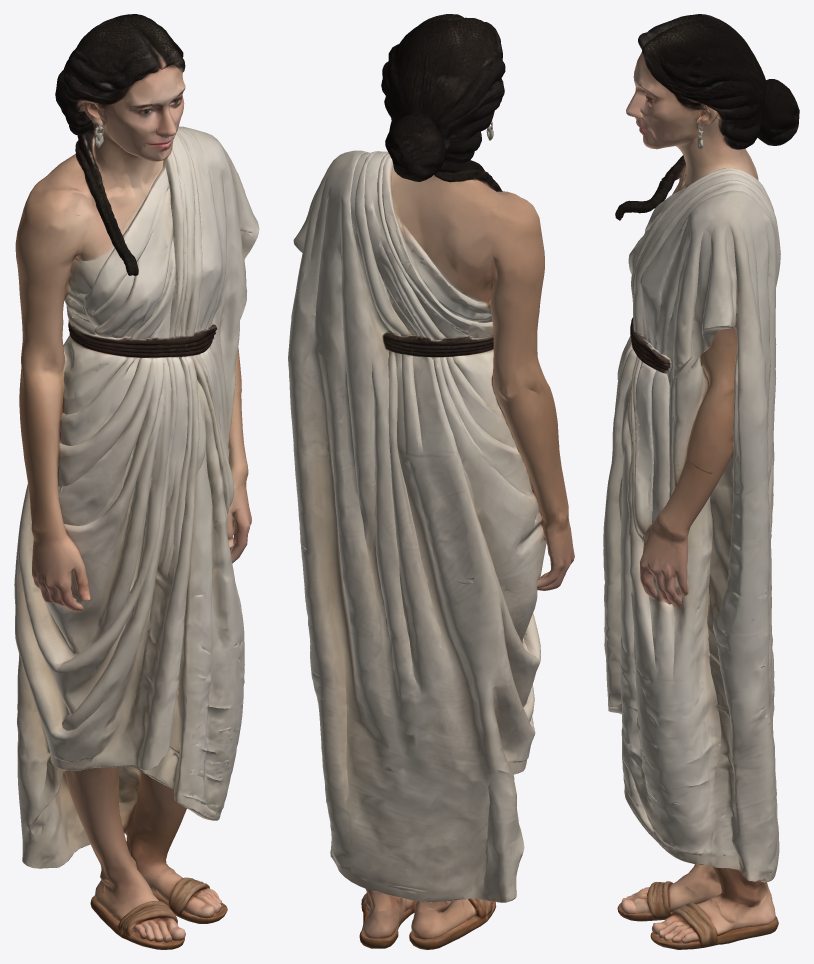
The model's file is crowd_young_woman_rodin_source.glb.
3 renders of one model, left to right at view 1: azimuth 30°, elevation 25°; view 2: azimuth 150°, elevation 25°; view 3: azimuth 270°, elevation 25°, orthographic.
Visible parts, largest first — view 1: model; view 2: model; view 3: model.
Part boxes in pixels (bbox=[...]): model: bbox=[14, 14, 259, 949]; model: bbox=[288, 14, 574, 949]; model: bbox=[603, 14, 799, 949].
Size of the model in its own units: 0.5379 by 1.9 by 0.3776.
1 material, 1 textured.
